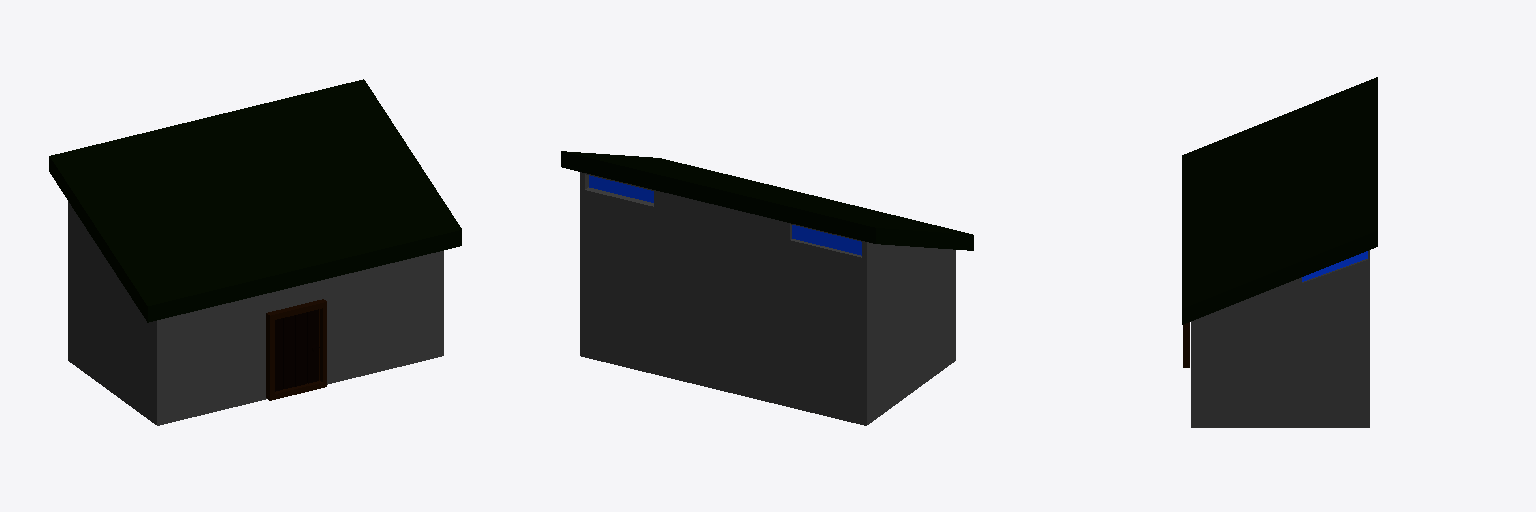
File: Bathroom.obj
The picture shows the model from 3 angles: view 1: azimuth 30°, elevation 25°; view 2: azimuth 150°, elevation 25°; view 3: azimuth 270°, elevation 25°; orthographic projection.
Parts seen in each view (by area): view 1: Bathroom_Cube.063; view 2: Bathroom_Cube.063; view 3: Bathroom_Cube.063.
Part boxes in pixels (bbox=[...]): Bathroom_Cube.063: bbox=[49, 79, 461, 425]; Bathroom_Cube.063: bbox=[561, 151, 973, 425]; Bathroom_Cube.063: bbox=[1182, 77, 1377, 427].
Size of the model in its own units: 11.22 by 6.98 by 6.07.